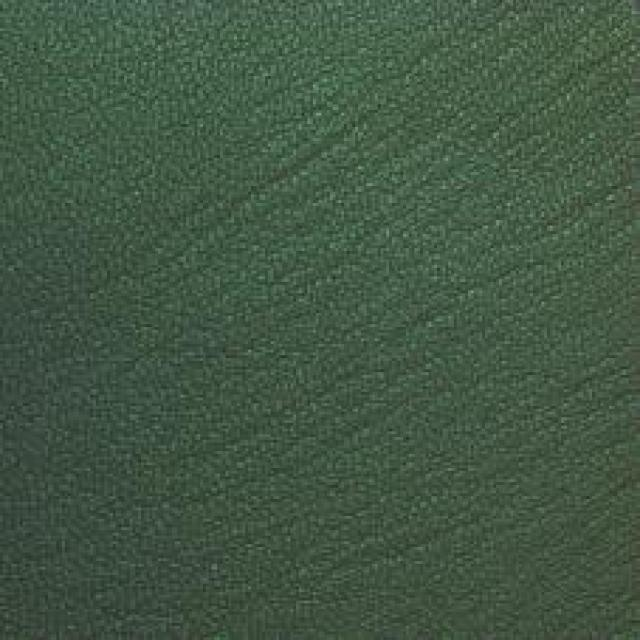Growth Marks: (481, 45, 624, 295), (284, 116, 462, 235)
